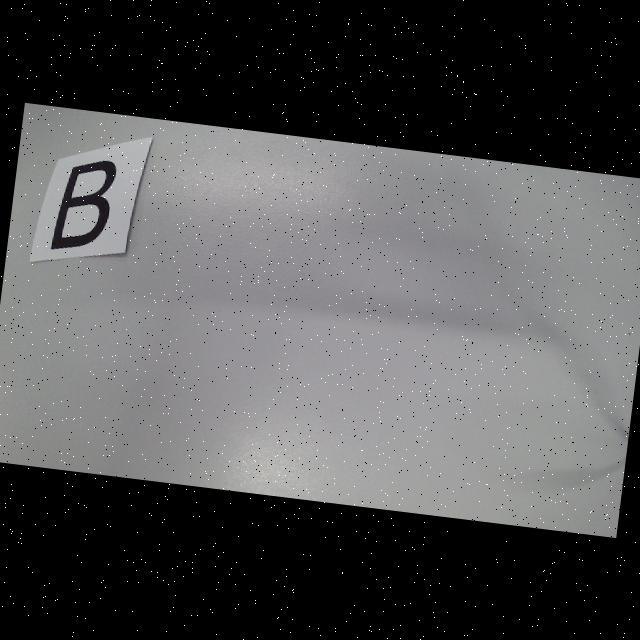FAKE: (50, 155, 116, 256)
